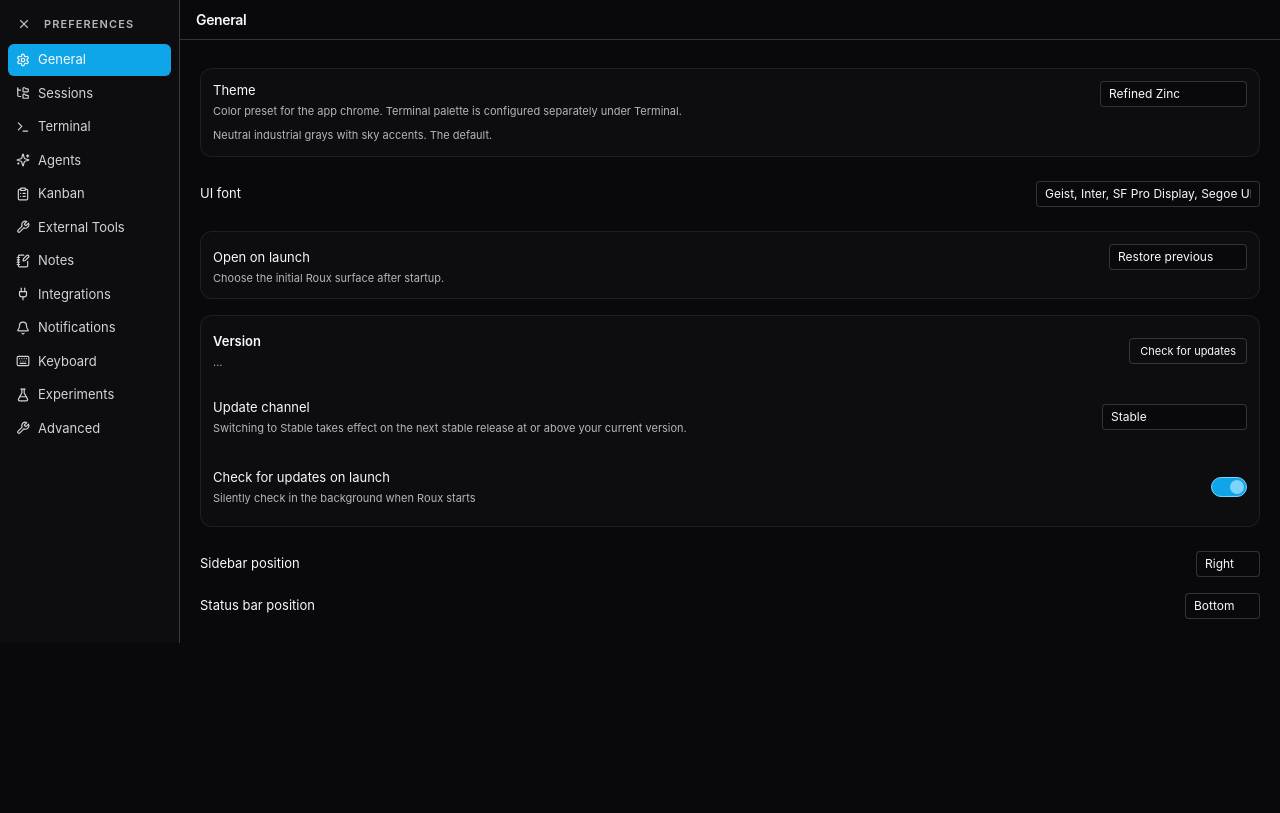
Test: SettingsPanel Kanban tab › copies the example workflow and validates the returned relative path
Click the button "Kanban" at (90,194), box [8,178,171,210]
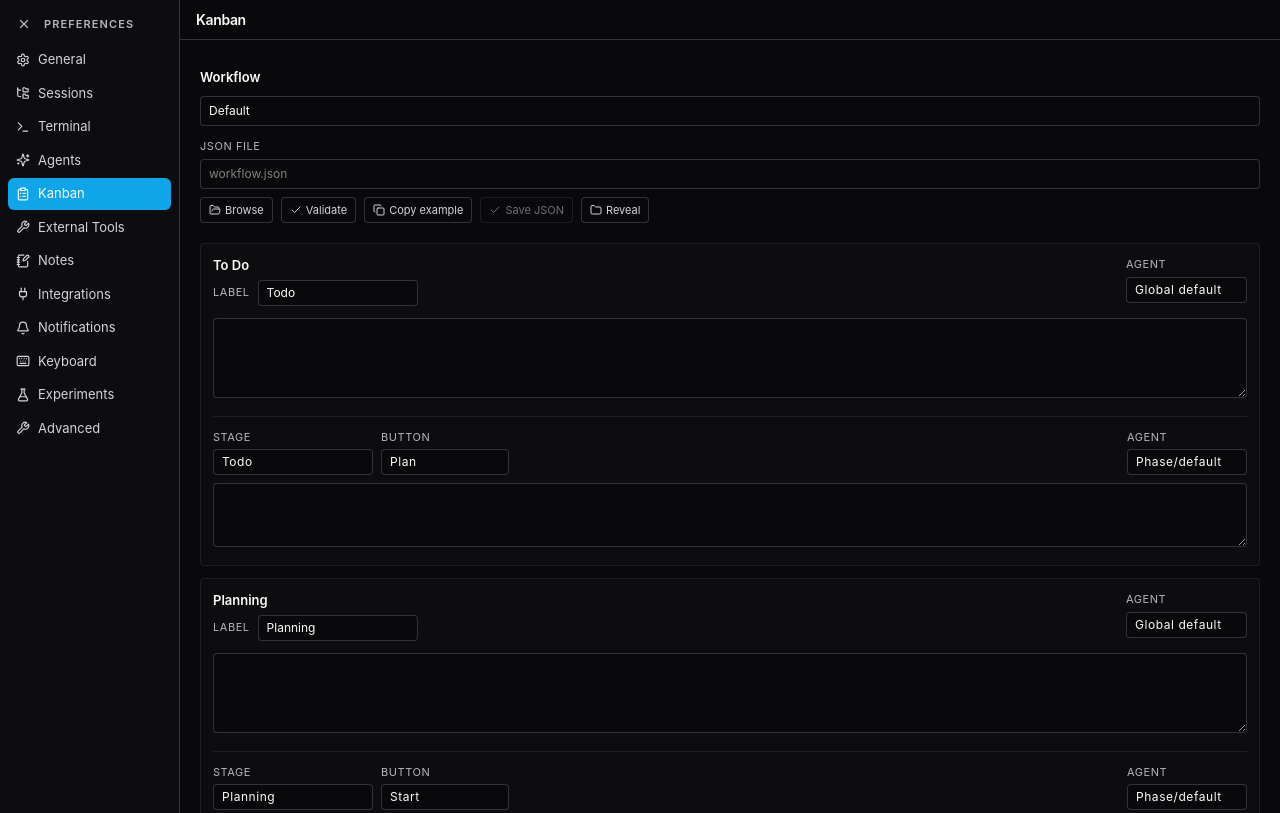
Click the button "Copy example" at (418,210), box [364,196,472,223]
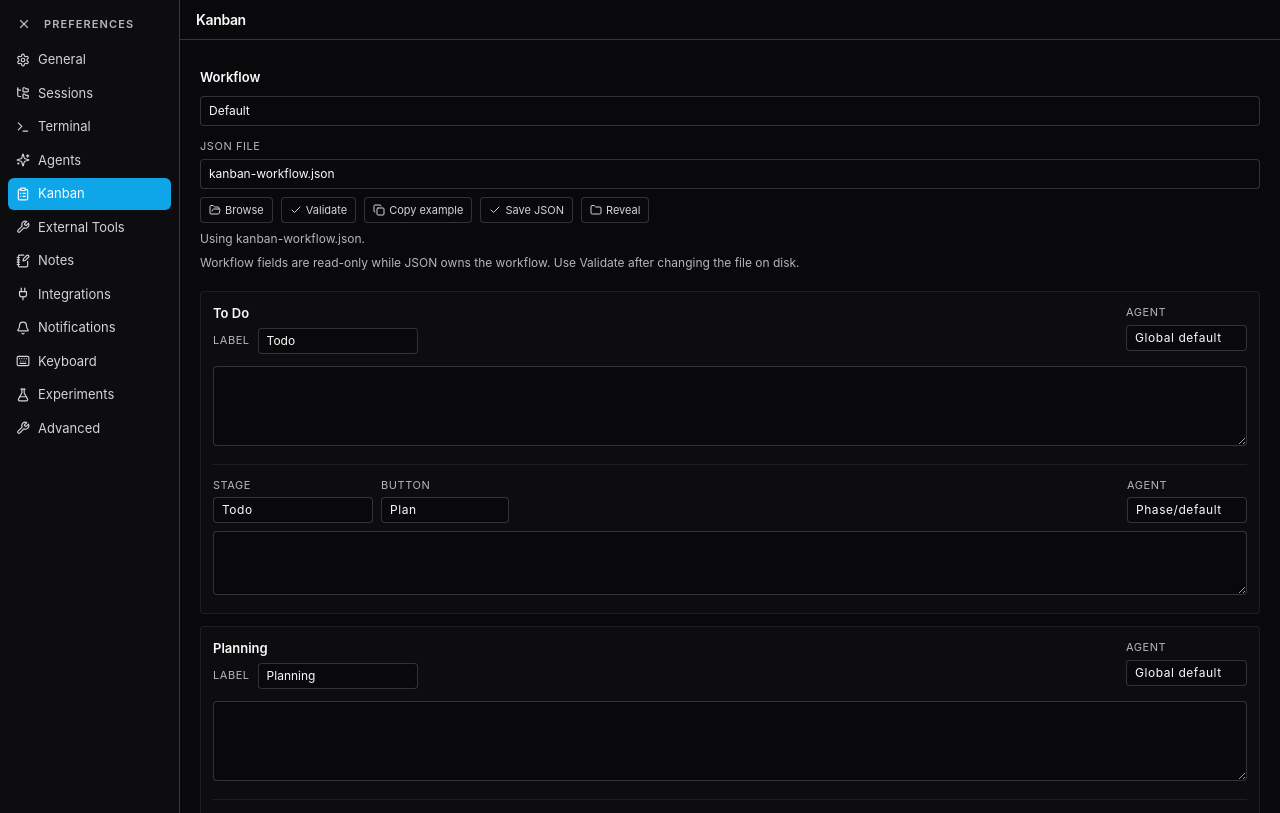
expect the field named "Workflow JSON file" holds "kanban-workflow.json": met, box [200,158,1260,188]
